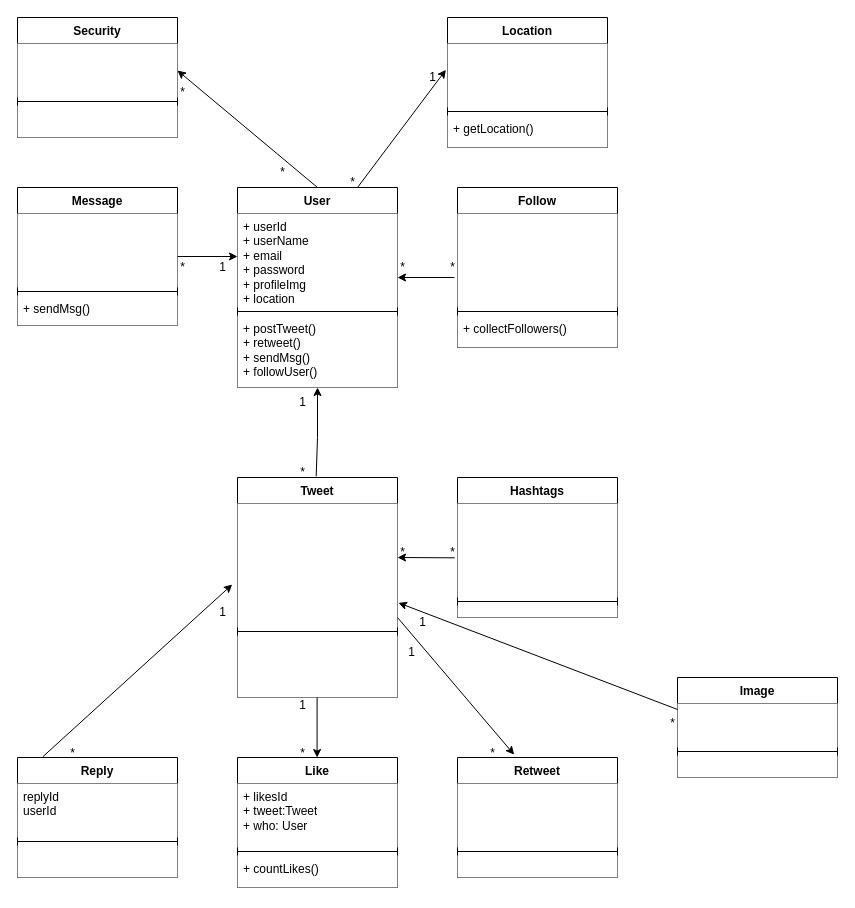
Image size: 855x908. Some labels were removed from this diagram. Each missing label, with the centre of its shape:
"+ followId + following: User + follower: User" belongs at point 537,260.
"+ hashtagId + tweetId + tag" belongs at point 537,550.
"+ imgId + imgUrl" belongs at point 757,725.
"+ locationId + city + country" belongs at point 527,75.
"+ messageId + sender:User + content * tweet:Tweet" belongs at point 97,250.
"+ publish() + addReply() + addLike()" belongs at point 317,666.
"+ retweetId + originalTweet + tweet:Tweet" belongs at point 537,815.
"+ securityID + userId" belongs at point 97,70.
"+ tweetId + author:User + content + hashtag + retweet:Tweet + reply + likes" belongs at point 317,565.
"setReply()" belongs at point 97,861.
